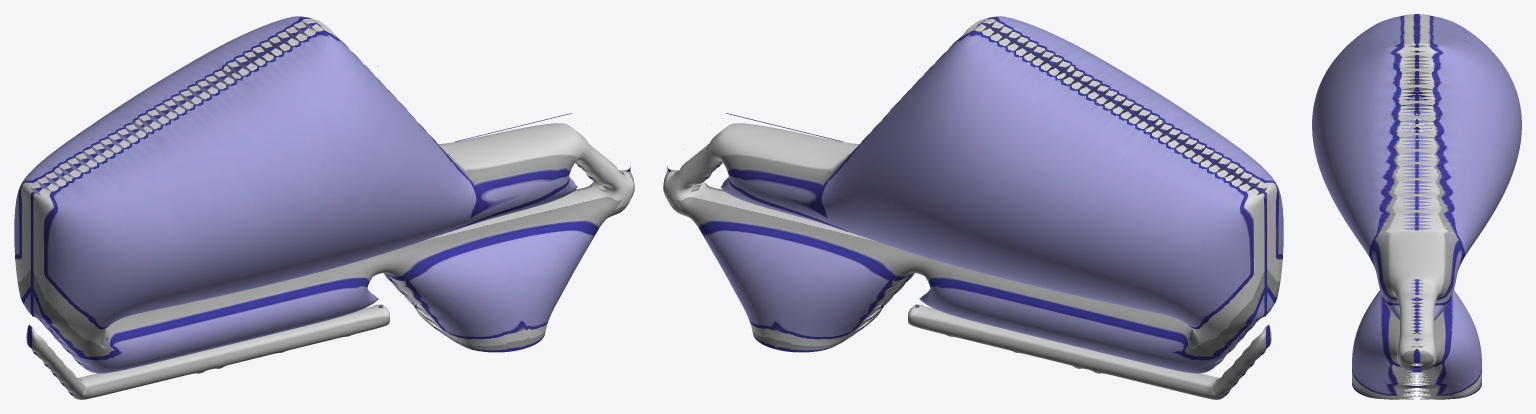
File: west_deck.glb
3 renders of one model, left to right at view 1: azimuth 30°, elevation 25°; view 2: azimuth 150°, elevation 25°; view 3: azimuth 270°, elevation 25°, orthographic. The views are drawn at different scales.
Visible parts, largest first — view 1: west_deck; view 2: west_deck; view 3: west_deck.
Boxes of the visible parts, <box> form: west_deck: <box>14,16,634,399</box>; west_deck: <box>663,16,1283,399</box>; west_deck: <box>1312,14,1521,399</box>.
Bounding box in the file's own units: 0.9906 × 0.5409 × 0.3688.
Materials: 1 (1 with a texture image).
